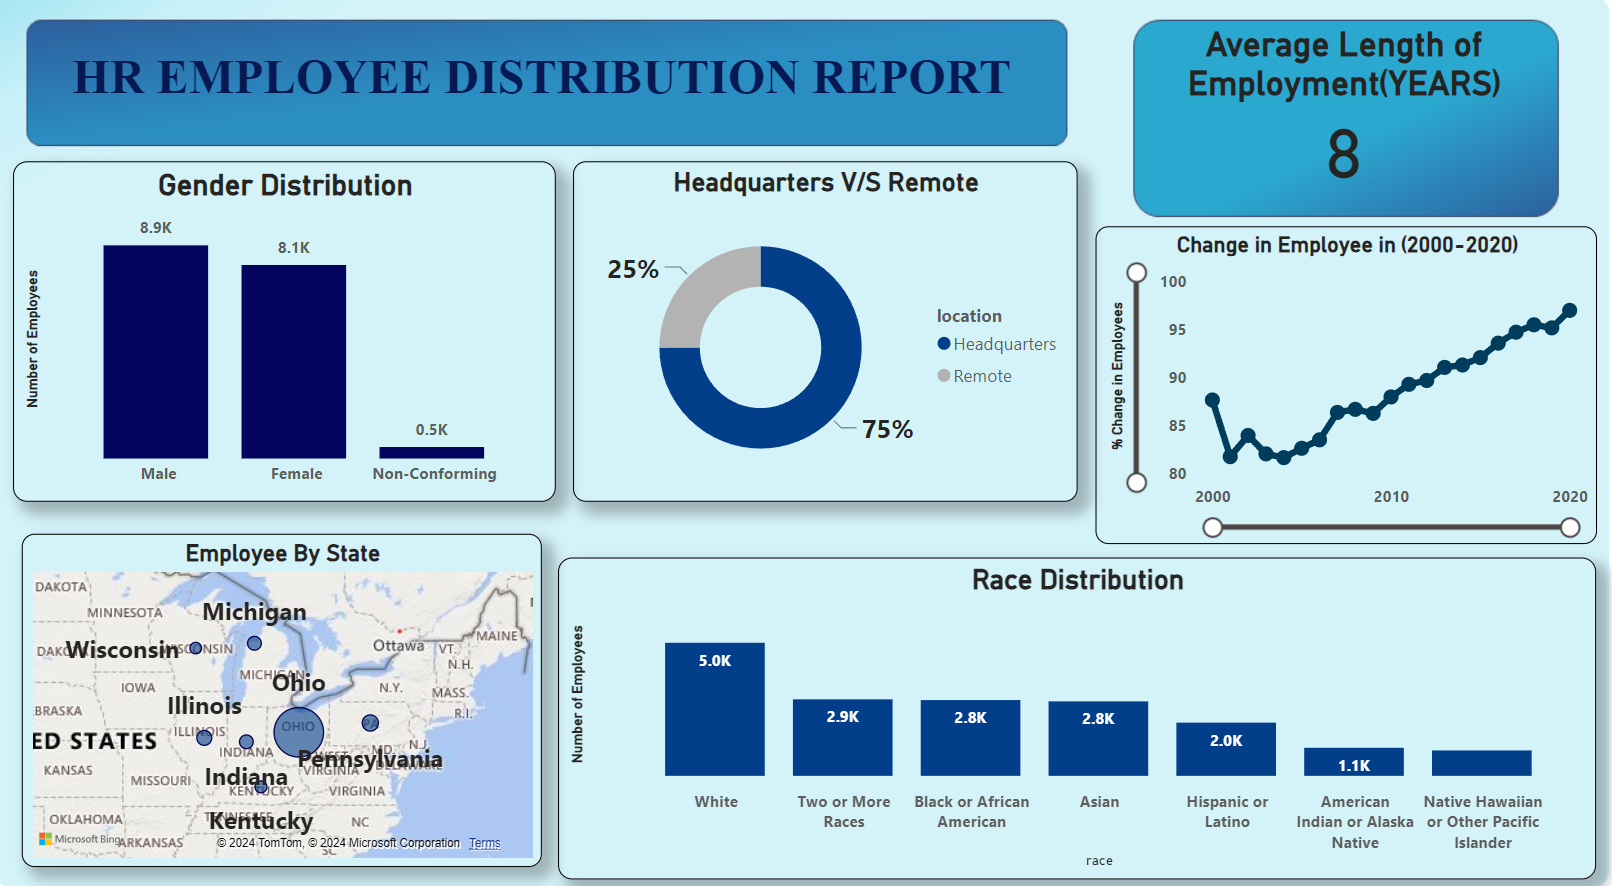

What the dashboard file says about the page in this screenshot:
{"tool":"powerbi","page":{"name":"Page 1","canvas":[1280,720],"ordinal":0},"visuals":[{"type":"textbox","box":[49.3,48.3,775.1,64.7],"z":0},{"type":"card","title":"Average Length of Employment(YEARS)","fields":{"Values":["Sum(avg_length_employment.avg_length_employment)"]},"box":[897.3,33.9,323.4,126.3],"z":1000},{"type":"columnChart","title":"Gender Distribution","fields":{"Category":["Gender.gender"],"Y":["Sum(Gender.count)"]},"box":[26.7,140.6,420.9,263.8],"z":2000},{"type":"donutChart","title":"Headquarters V/S Remote","fields":{"Y":["Sum(location.count)"],"Category":["location.location"]},"box":[461,140.6,391.1,263.8],"z":3000},{"type":"lineChart","title":"Change in Employee in  (2000-2020)","fields":{"Category":["%_change.year"],"Y":["Sum(%_change.net_change_percentage)"]},"box":[866,191,389,246],"z":4000},{"type":"map","title":"Employee By State","fields":{"Category":["state.location_state"],"Size":["Sum(state.count)"]},"box":[33.9,429.1,403.5,258.7],"z":5000},{"type":"clusteredColumnChart","title":"Race Distribution","fields":{"Y":["Sum(race.count)"],"Category":["race.race"]},"box":[449.7,447.6,804.9,249.5],"z":6000}]}

Visuals, with their boxes in screenshot pixels (x1, y1, x2, y2), scaled from the page's 1280x720 canvas onto the 1612x886 screenshot:
textbox: locate(62, 59, 1038, 139)
"Average Length of Employment(YEARS)" card: locate(1130, 42, 1537, 197)
"Gender Distribution" columnChart: locate(34, 173, 564, 498)
"Headquarters V/S Remote" donutChart: locate(581, 173, 1073, 498)
"Change in Employee in  (2000-2020)" lineChart: locate(1091, 235, 1581, 538)
"Employee By State" map: locate(43, 528, 551, 846)
"Race Distribution" clusteredColumnChart: locate(566, 551, 1580, 858)
